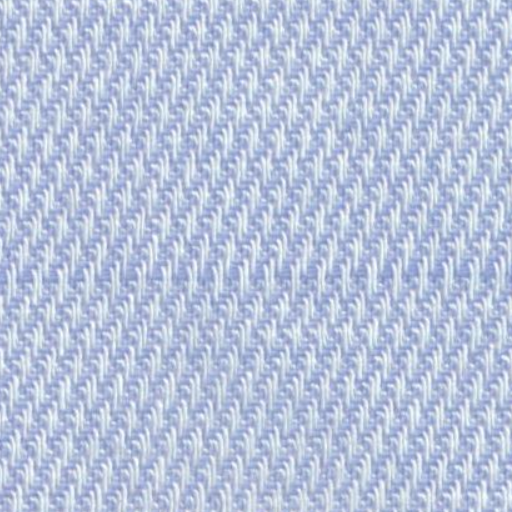TuoSha: (13, 238, 492, 314)
